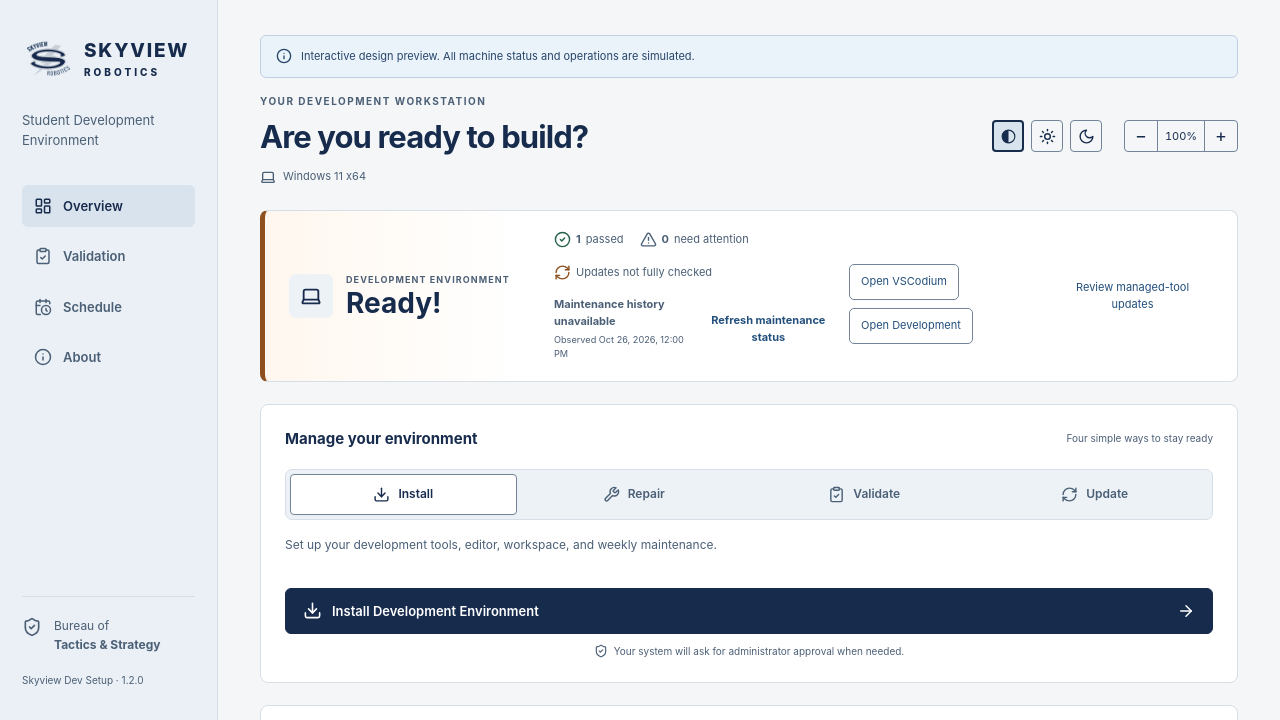
Test: shows graphical validation and labels optional statuses
Expected: the heading "Ready!" is shown, x1=346 y1=286 x2=442 y2=320
Click the button "Validation".
click(108, 256)  # box x1=22 y1=235 x2=195 y2=278
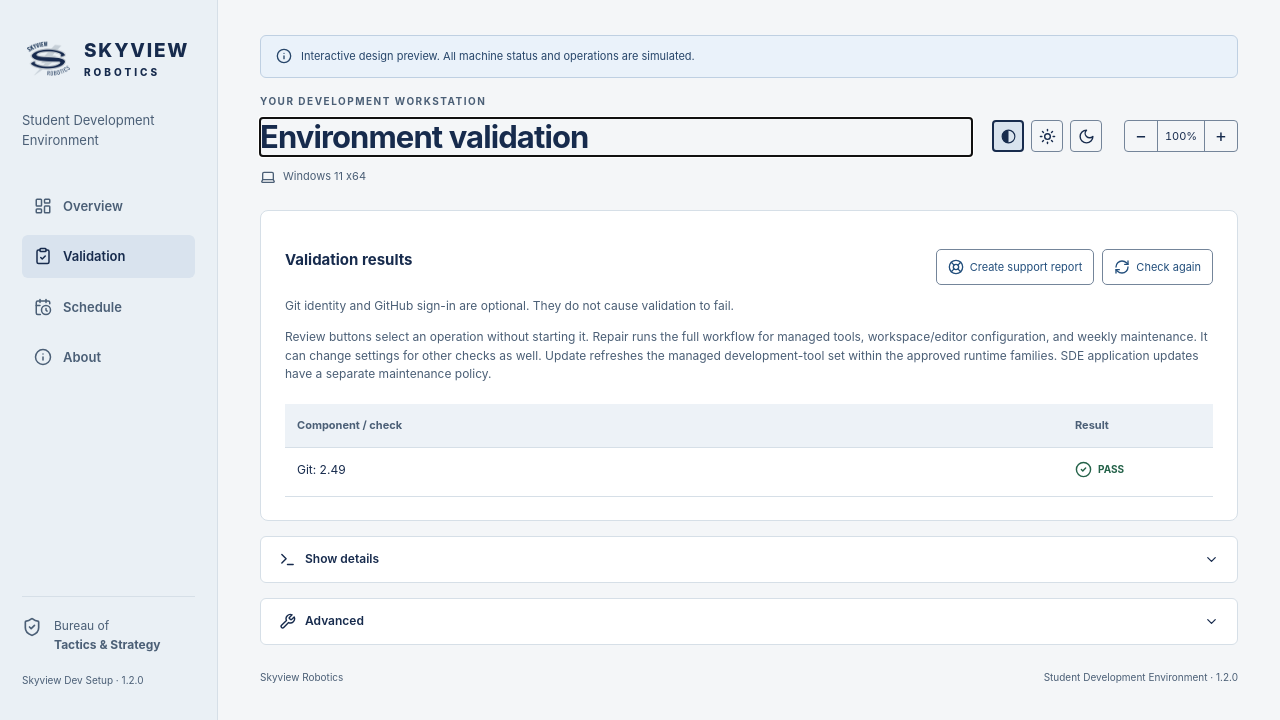
Expected: the text "PASS" is shown, x1=1075 y1=461 x2=1124 y2=478
Now the table is shown, box x1=285 y1=404 x2=1213 y2=497
